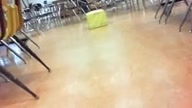cube: (85, 9, 106, 29)
